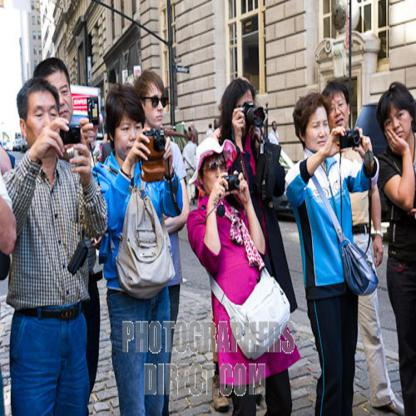face: (28, 89, 60, 156), (46, 68, 76, 133), (113, 101, 144, 162), (204, 154, 230, 204), (234, 86, 257, 139), (329, 85, 351, 140), (144, 77, 167, 126), (386, 104, 411, 146), (309, 105, 330, 150)
